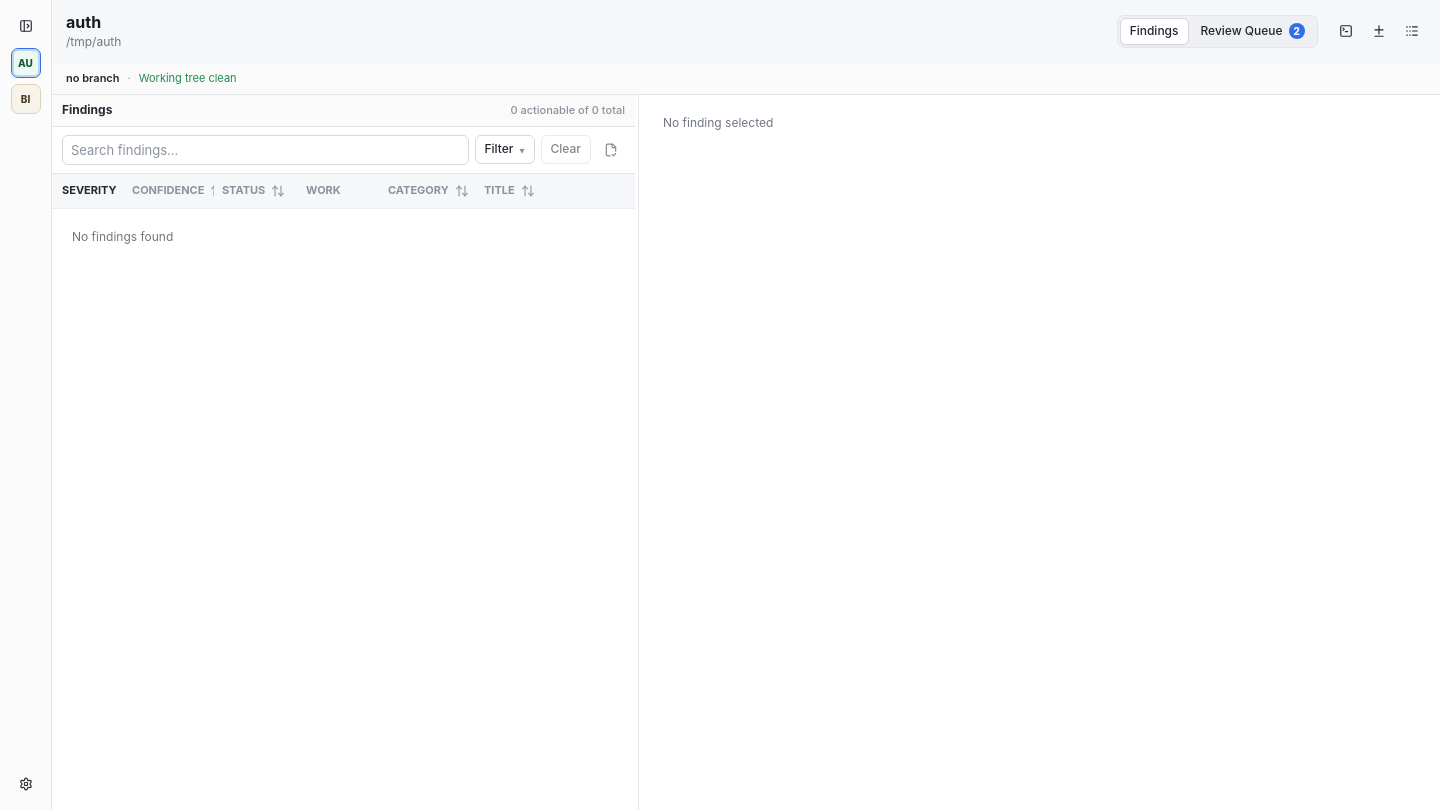
Test: ClawpatchApp header actions › selects repositories from the collapsed sidebar rail
Expected: the heading "auth" is shown, [66,12,101,32]
Step 1. Click the button with aria-label "Select billing" → (26, 99), box [10,84,40,114]
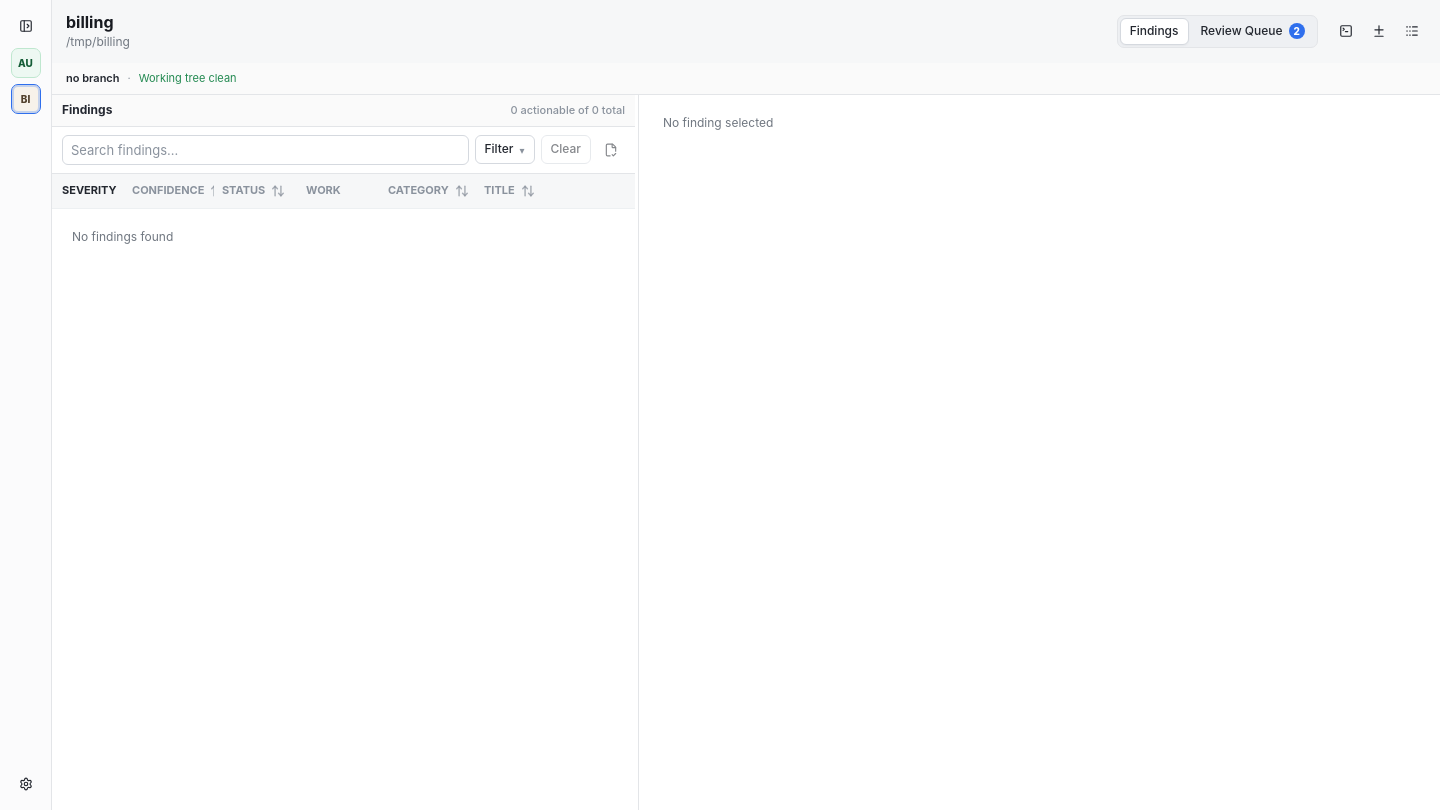
Result: the heading "billing" is shown at [66,12,114,32]
